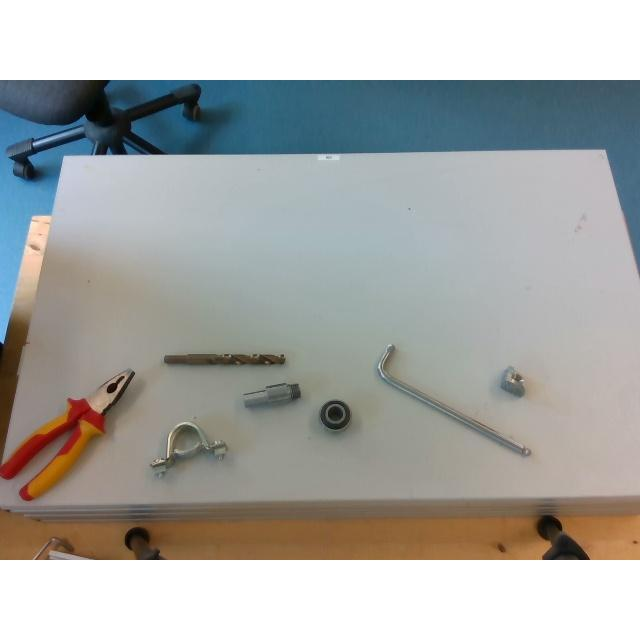AllenKey: (374, 344, 530, 456)
Axis2: (242, 383, 300, 407)
Bearing2: (318, 400, 349, 430)
Drill: (162, 354, 286, 366)
Housing: (150, 421, 226, 472)
